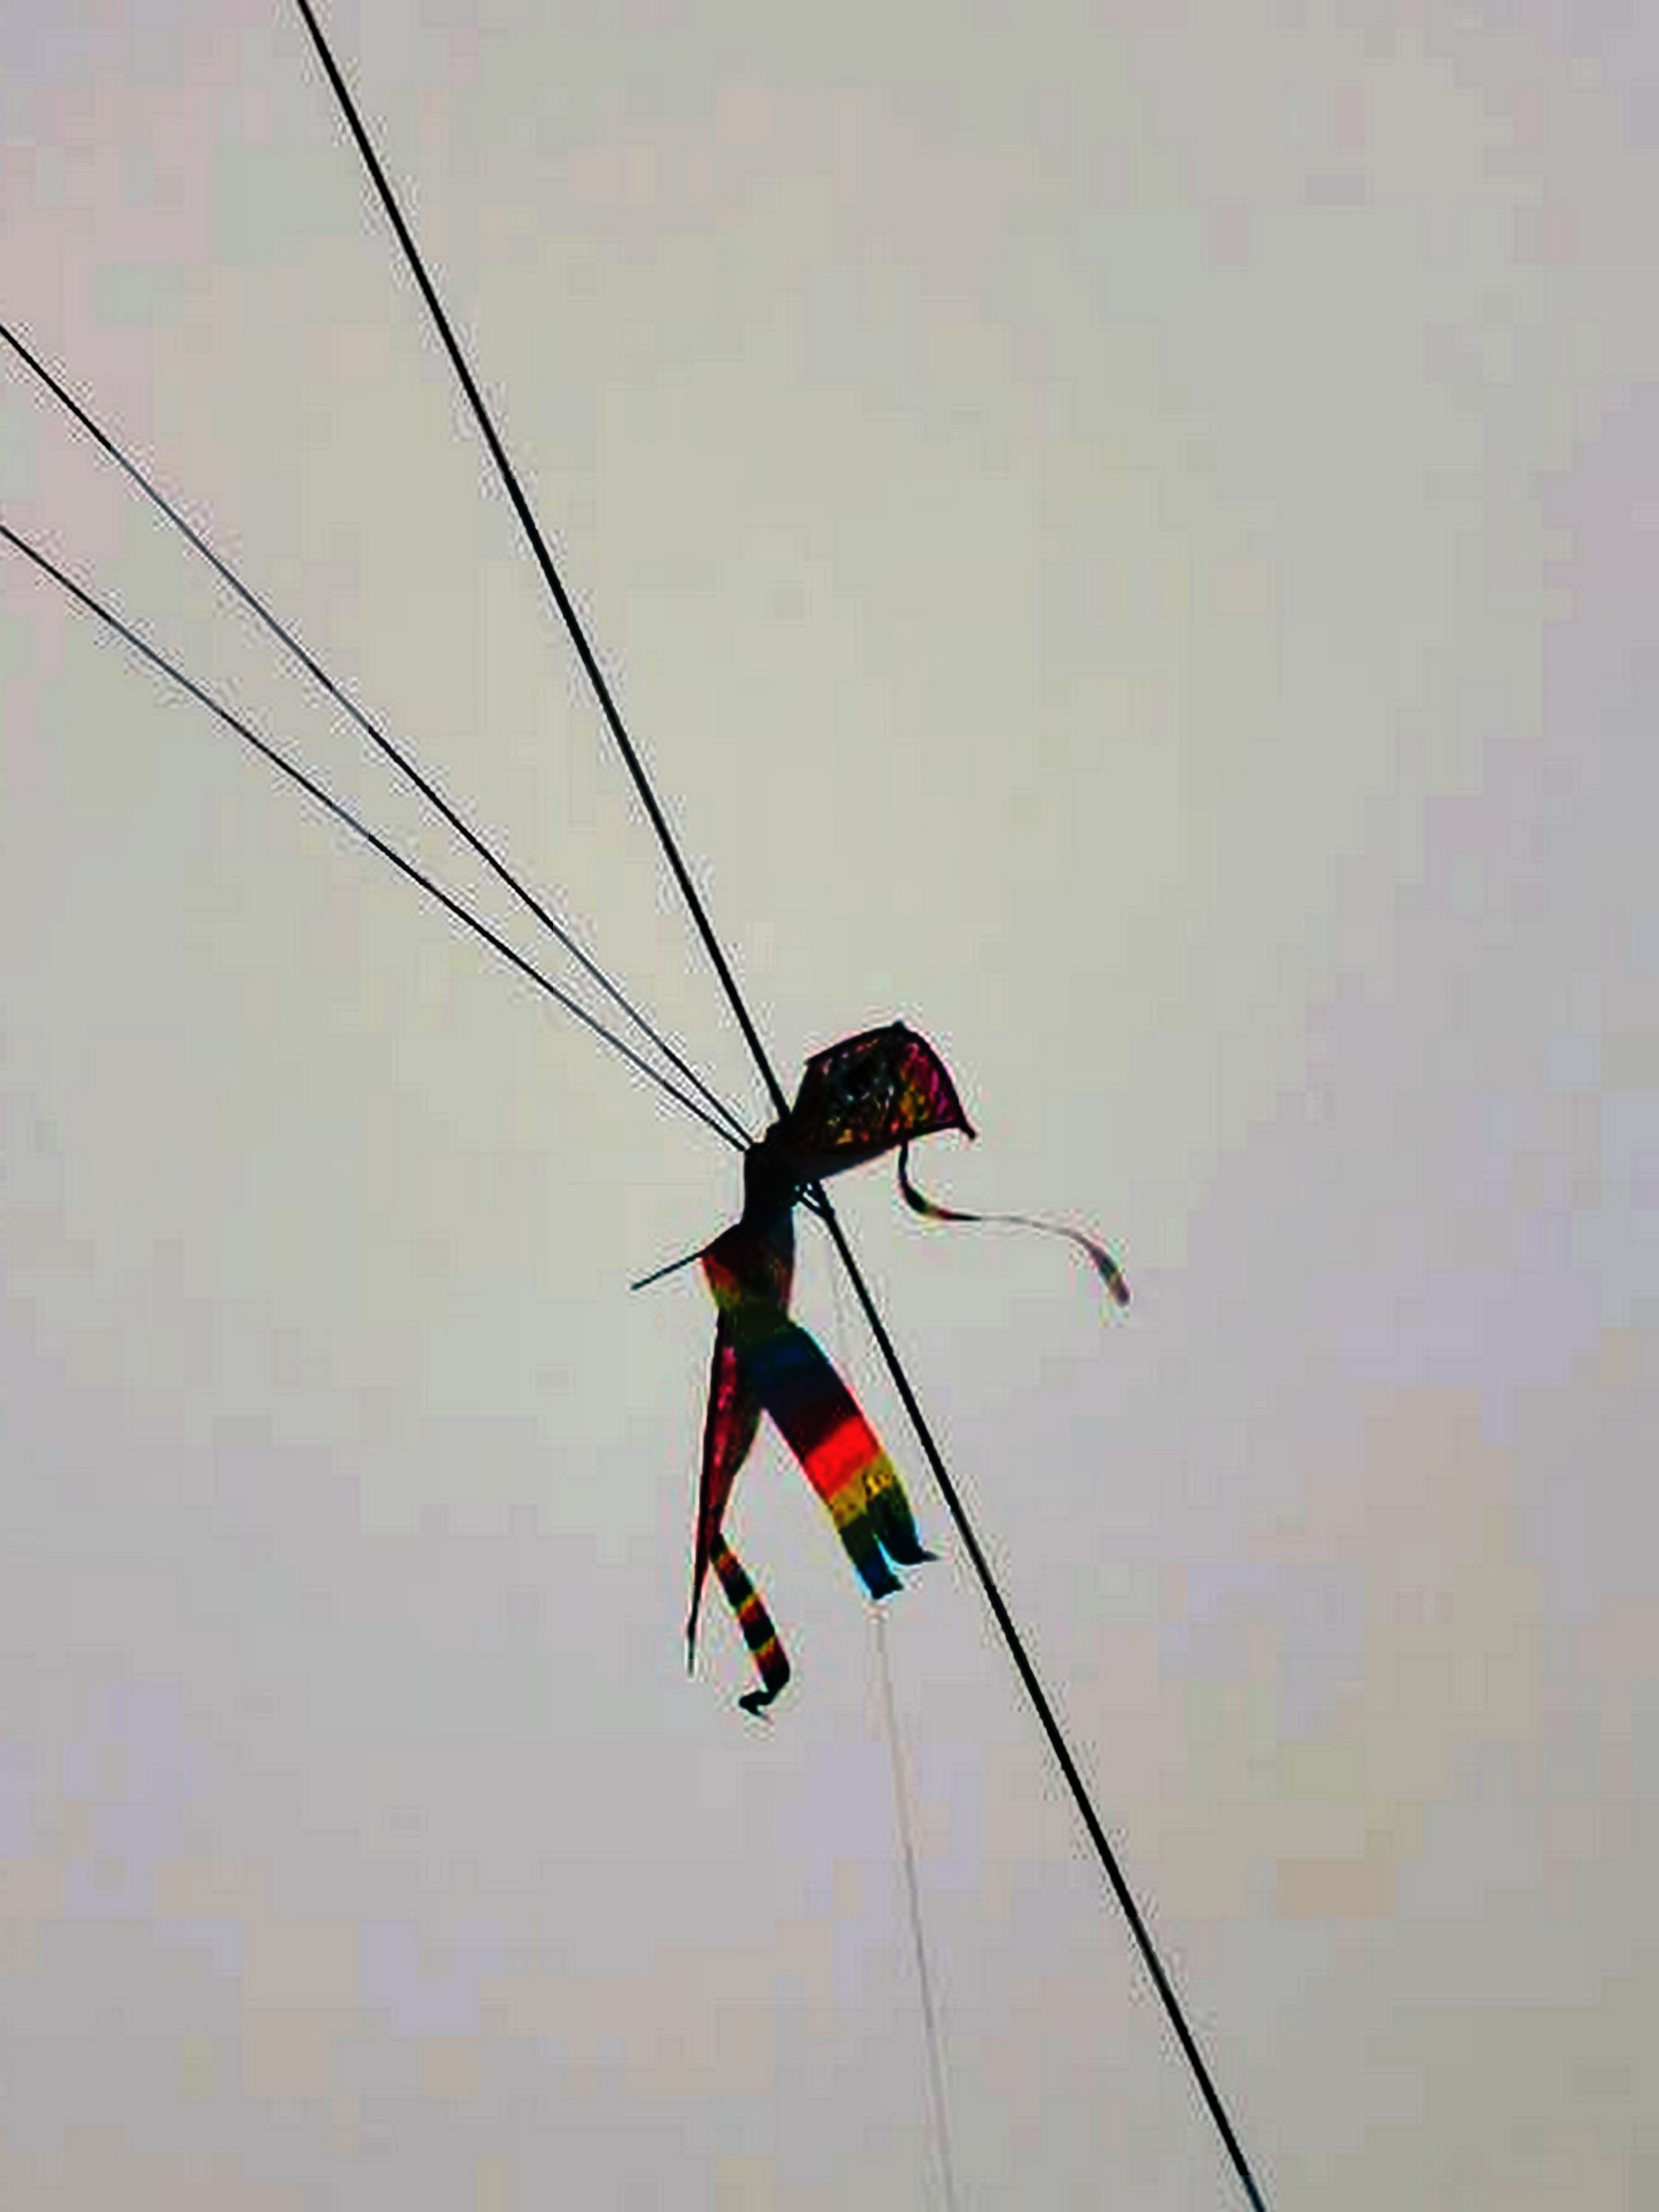wire foreign body: (606, 991, 1110, 1747)
